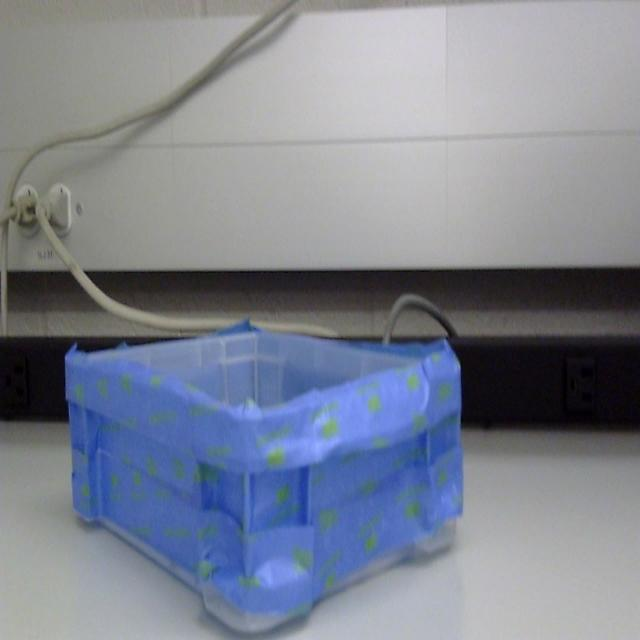bucket: (64, 321, 465, 637)
